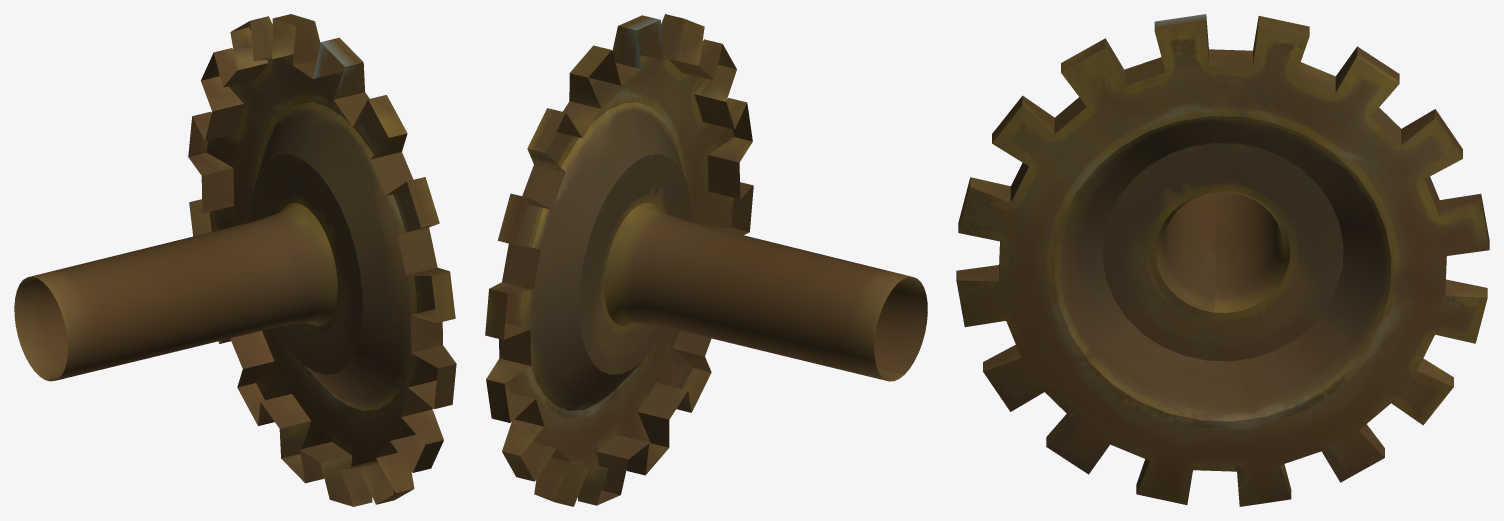
Rendered from EngranajeCh01_T.obj.
The picture shows the model from 3 angles, left to right: view 1: azimuth 30°, elevation 25°; view 2: azimuth 150°, elevation 25°; view 3: azimuth 270°, elevation 25°; orthographic projection. The views are drawn at different scales.
Parts seen in each view (by area): view 1: EngranajesCh01_ORO01.002; view 2: EngranajesCh01_ORO01.002; view 3: EngranajesCh01_ORO01.002.
Part boxes in pixels (x1,y1,x2,y2): EngranajesCh01_ORO01.002: (14, 14, 456, 506); EngranajesCh01_ORO01.002: (485, 14, 927, 506); EngranajesCh01_ORO01.002: (956, 14, 1489, 506).
Bounding box in the file's own units: 2.44 × 3.55 × 3.55.
